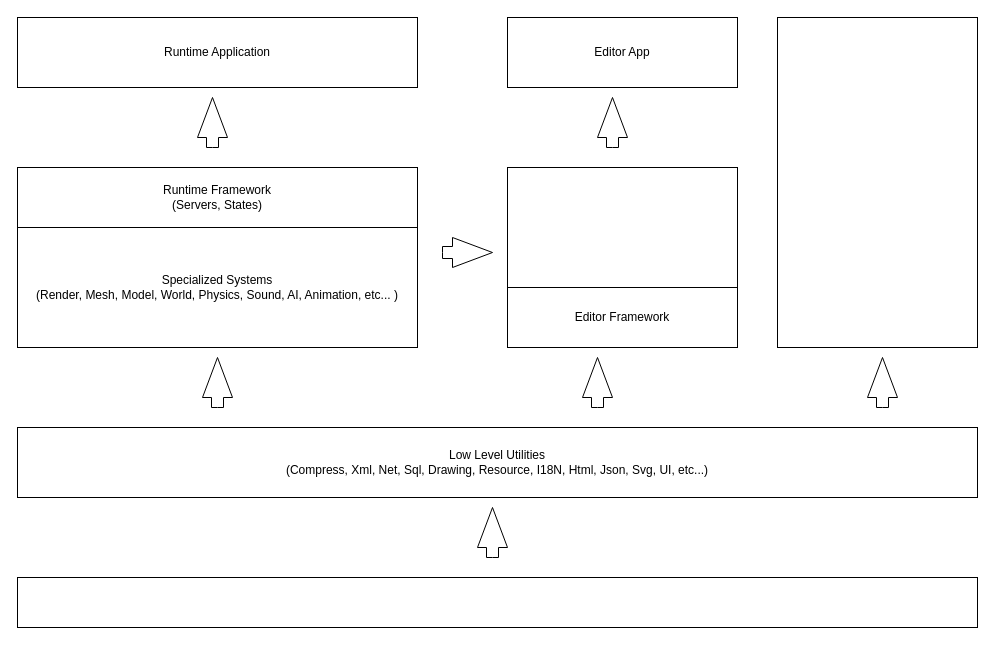
Some shapes in this 995 by 645 pixel diagram are drawn without their labels. Each missing label, with the box of its shape:
Core: (16, 576, 978, 628)
Editor Modules: (506, 166, 738, 288)
Standalone tools (Run tool, Pipeline tool, Migrate tool, etc...): (776, 16, 978, 348)
